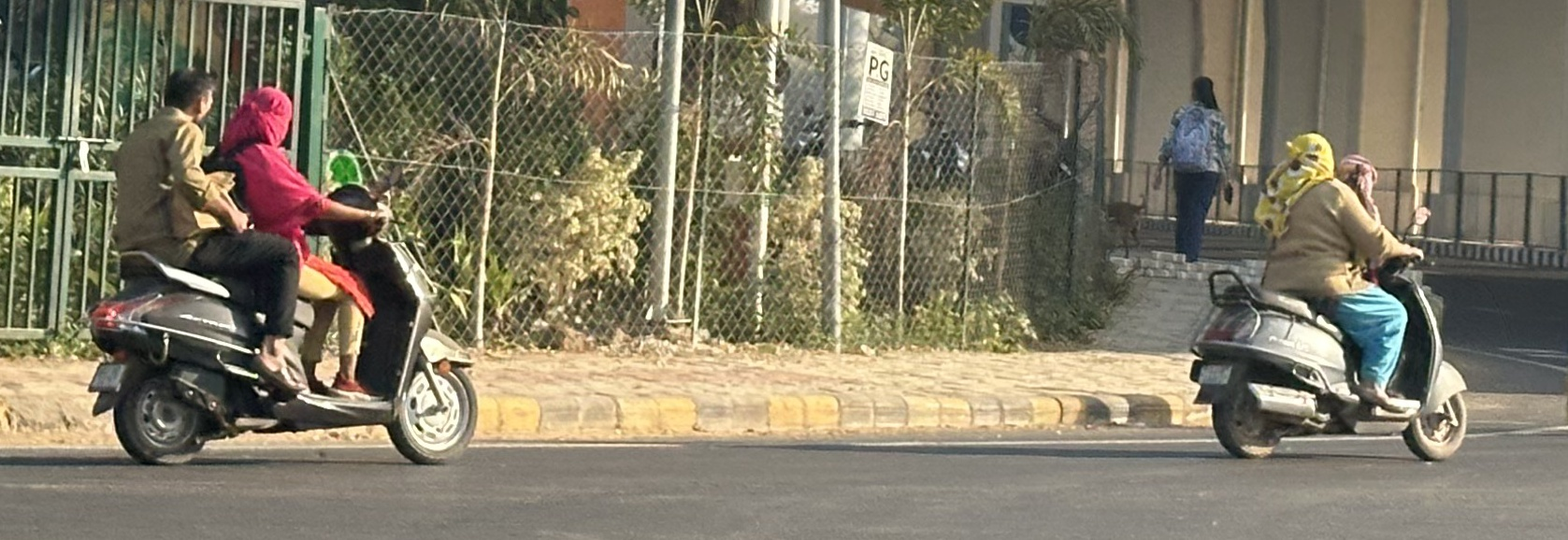BikeWithRider: (52, 50, 524, 477), (1161, 127, 1489, 462)
NoHelmet: (238, 86, 299, 149), (160, 63, 223, 122), (1280, 135, 1338, 180), (1337, 151, 1377, 196)
